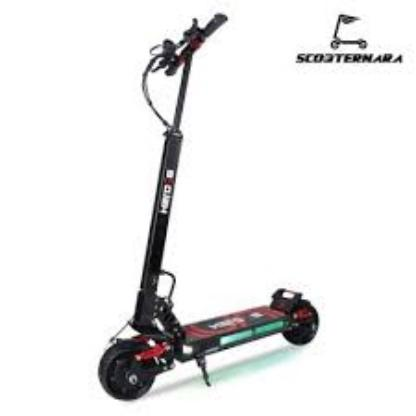bike: (98, 288, 319, 401)
